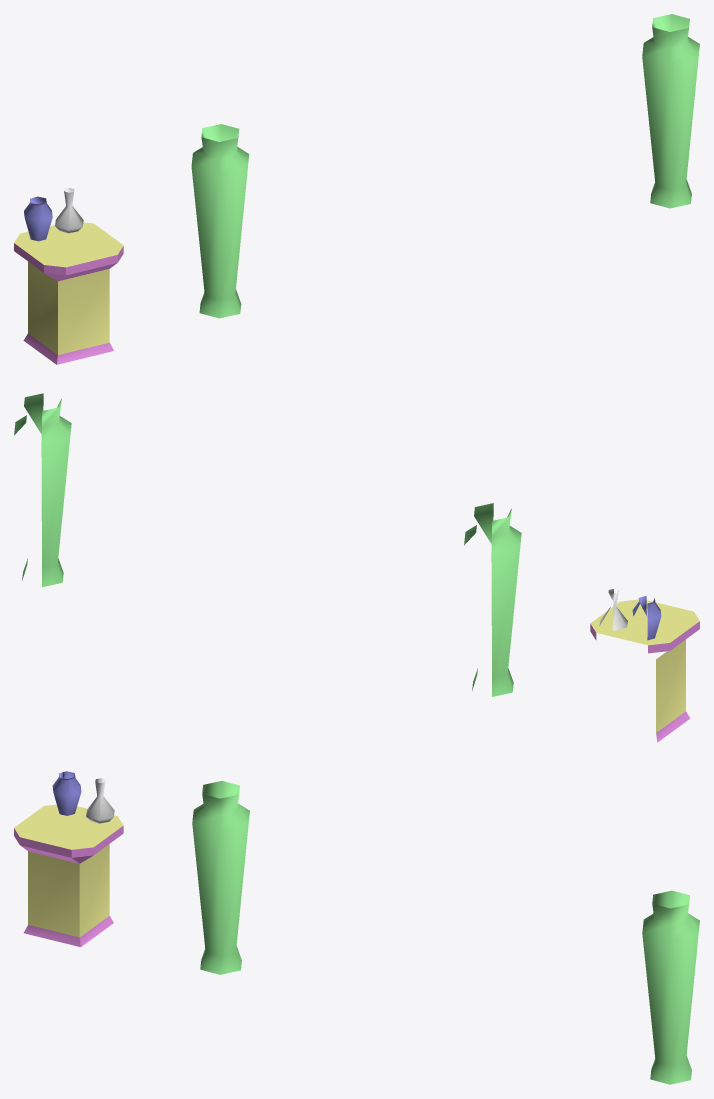
The model's file is interior_B_delf_store_01.gltf.
The picture shows the model from 3 angles, top to bottom: view 1: azimuth 30°, elevation 25°; view 2: azimuth 150°, elevation 25°; view 3: azimuth 330°, elevation 25°; orthographic projection.
Visible parts, largest first — view 1: interior_B_delf_store_01; view 2: interior_B_delf_store_01; view 3: interior_B_delf_store_01.
Boxes of the visible parts, bbox=[...] form: interior_B_delf_store_01: bbox=[14, 14, 699, 364]; interior_B_delf_store_01: bbox=[14, 393, 699, 742]; interior_B_delf_store_01: bbox=[14, 771, 699, 1084].
Size of the model in its own units: 1.75 by 0.4382 by 0.2087.
